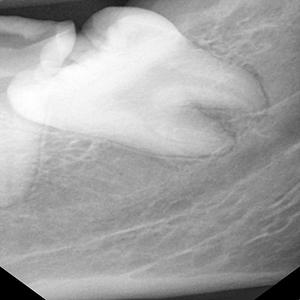tooth: (6, 6, 270, 162)
